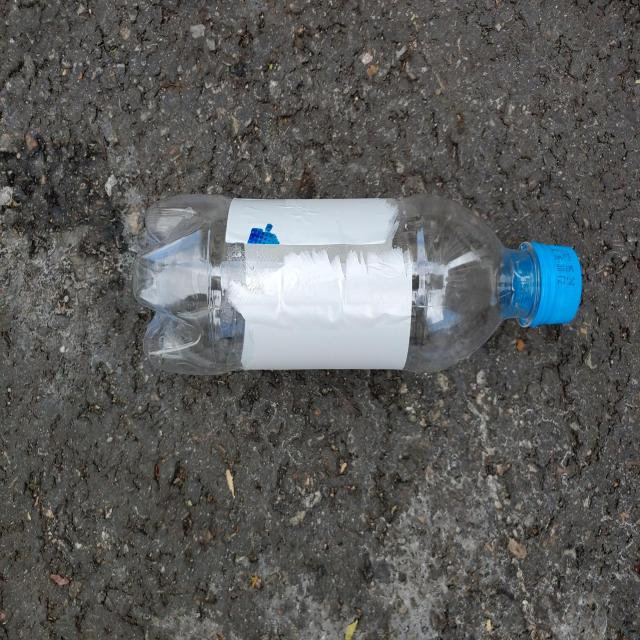plastic: (133, 194, 583, 374)
